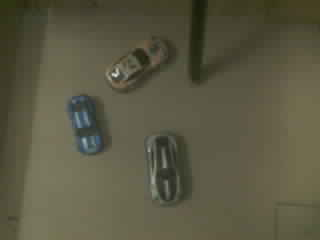Car: (106, 37, 167, 91), (146, 132, 182, 203), (68, 95, 103, 151)
